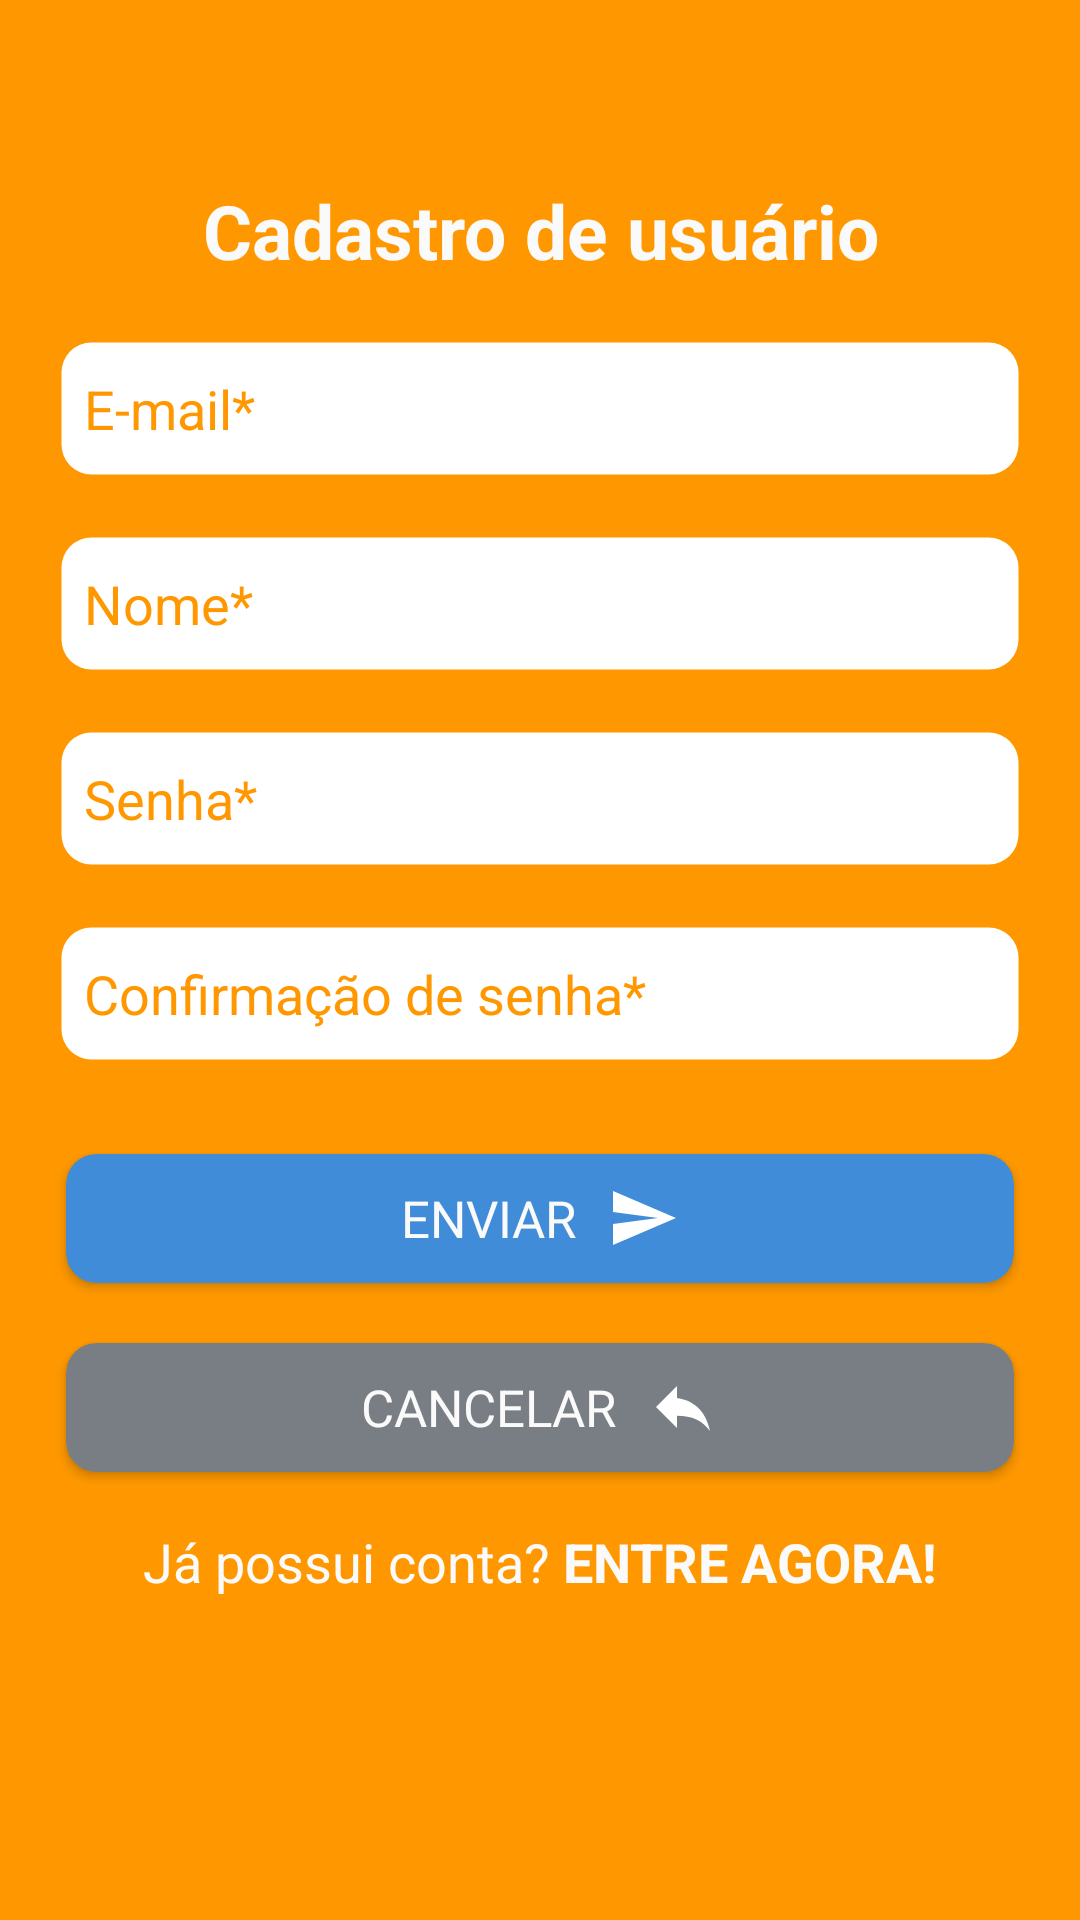

Icons on this 1080px×1920px Android screen, each with the point to tap as point (x, y):
voltar: point (683, 1408)
